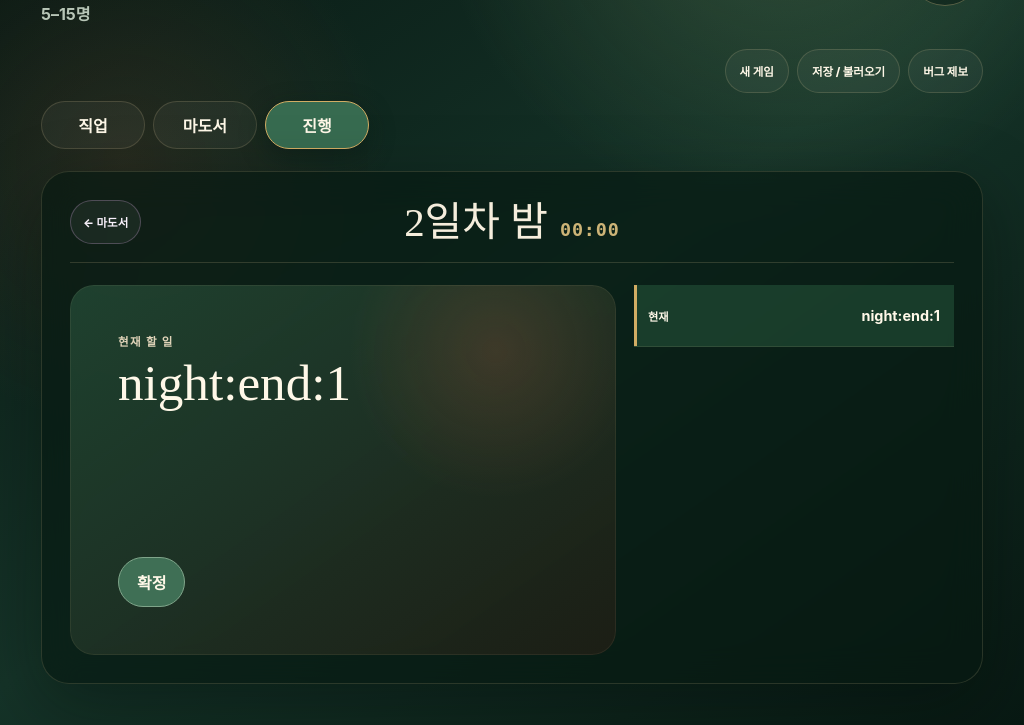
Test: times Night and Day independently and resets at each phase transition
This screenshot has width=1024, height=725.
(page scrolled)
expect the heading "night:end:1" is shown: met, box [118, 354, 351, 411]
expect the text named "2일차 밤 경과 시간 00:00" is shown: met, box [560, 221, 620, 239]
Click the button "확정": (152, 582) [118, 557, 186, 607]
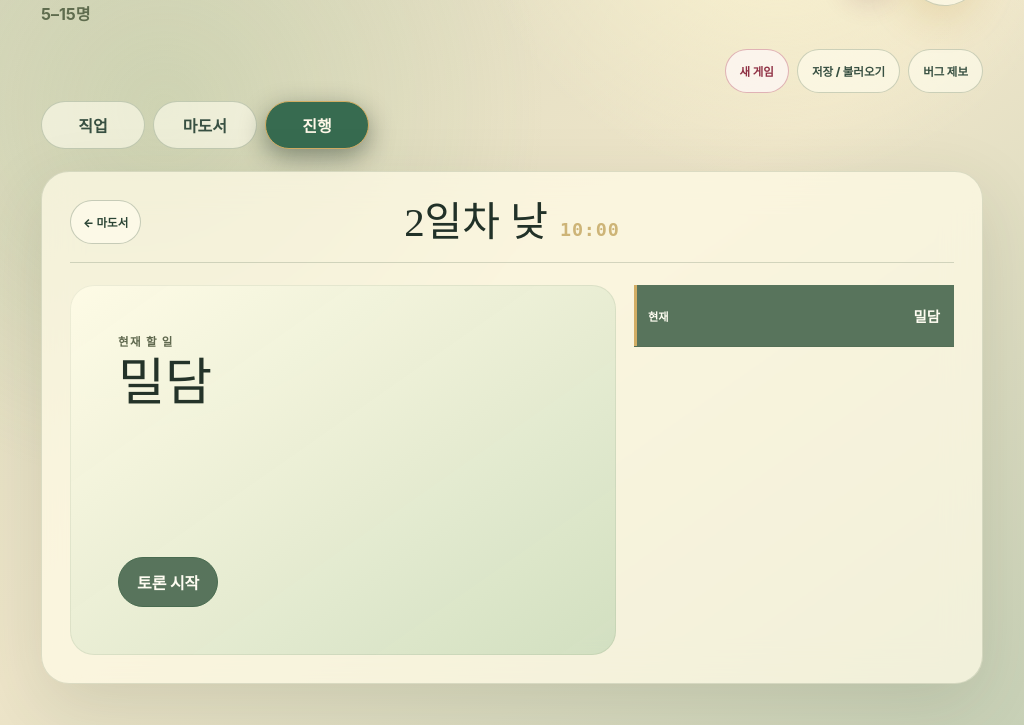
expect the text named "2일차 낮 경과 시간 10:00" is shown: met, box [560, 221, 620, 239]
Click the button "토론 시작": (168, 582) [118, 557, 218, 607]
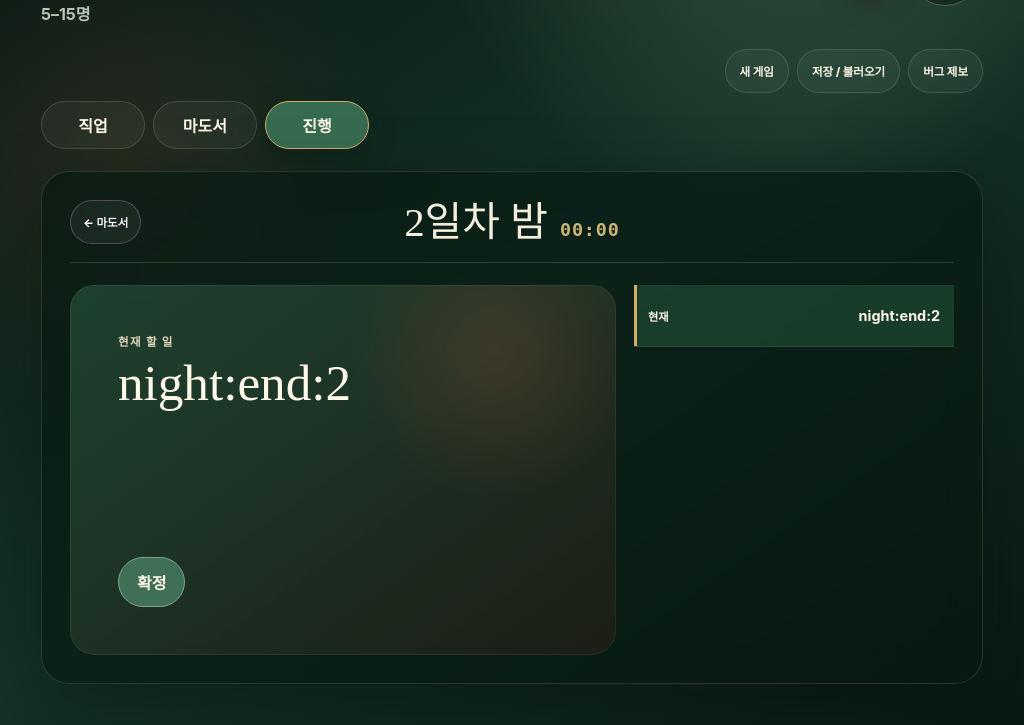
expect the heading "night:end:2" is shown: met, box [118, 354, 351, 411]
expect the text named "2일차 밤 경과 시간 00:00" is shown: met, box [560, 221, 620, 239]
Click the button "확정": (152, 582) [118, 557, 186, 607]
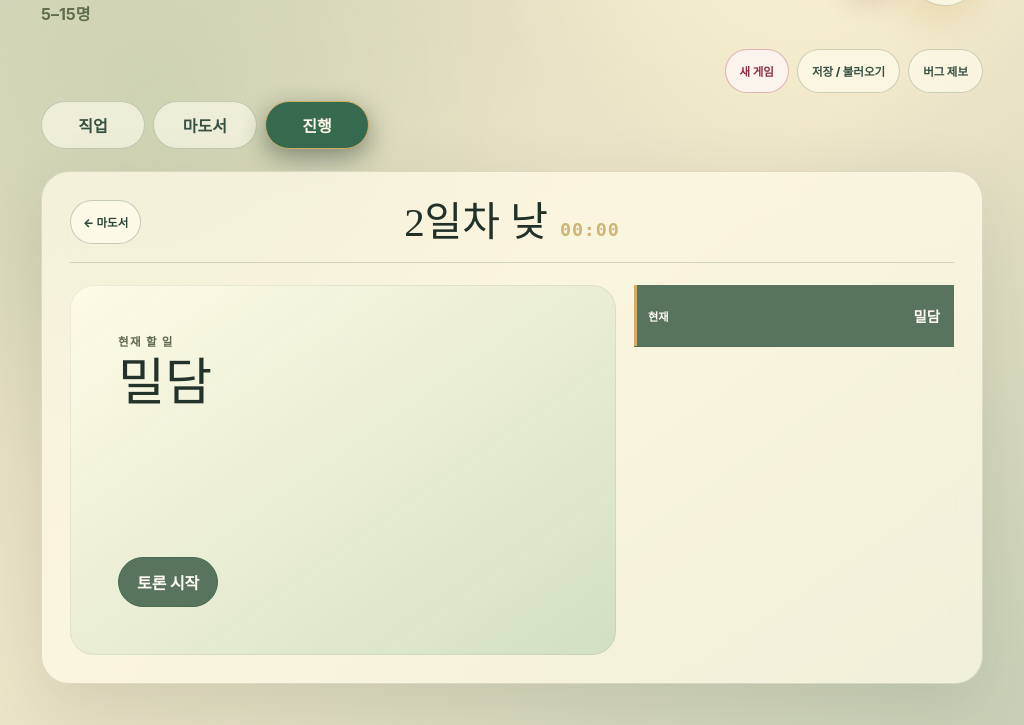
expect the text named "2일차 낮 경과 시간 00:00" is shown: met, box [560, 221, 620, 239]
